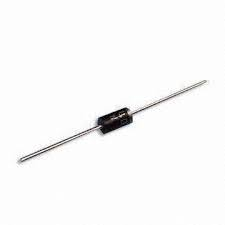diode: (79, 91, 160, 162)
